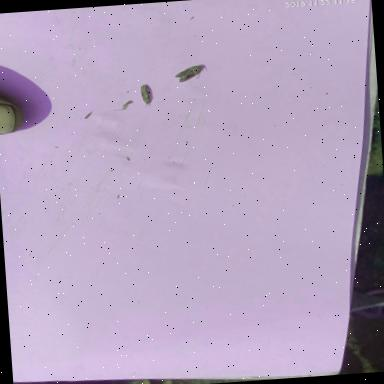pbw: (172, 63, 210, 85), (139, 83, 153, 108)
